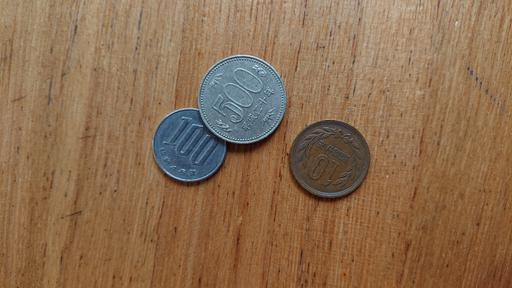100yen: (153, 109, 226, 182)
10yen: (288, 120, 370, 199)
500yen: (198, 54, 286, 142)
